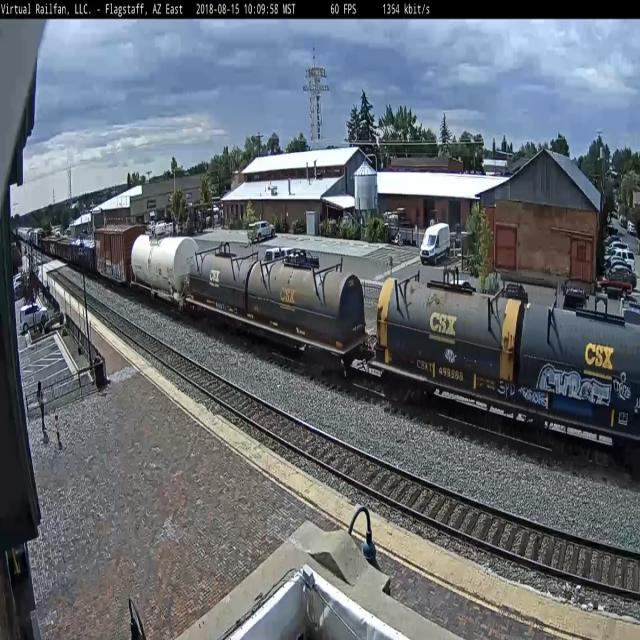tank: (374, 270, 522, 428), (519, 293, 640, 462), (247, 249, 372, 388), (128, 224, 200, 312), (187, 242, 250, 332)
